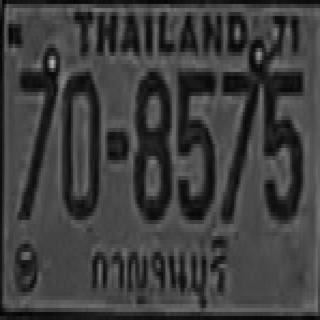N00: (60, 68, 99, 216)
N05: (262, 68, 303, 220), (176, 68, 215, 216)
N07: (17, 54, 58, 218), (219, 68, 258, 220)
N08: (133, 68, 170, 220)
P17: (85, 230, 230, 311)
